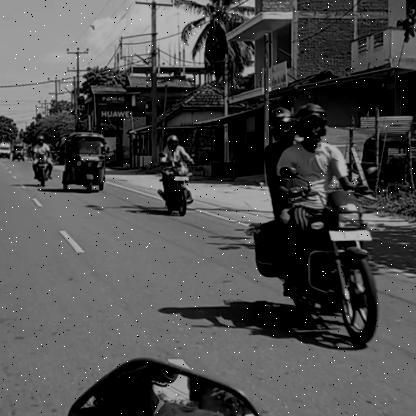motorcycle: (280, 190, 387, 348), (155, 160, 198, 218)
